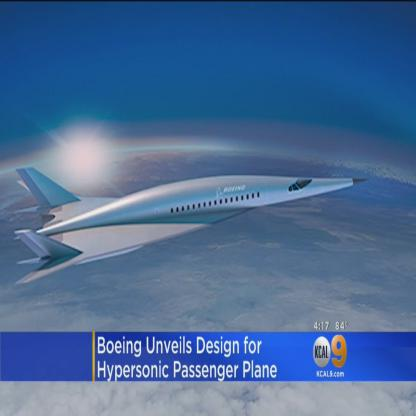CIV_Plane: (9, 151, 370, 298)
